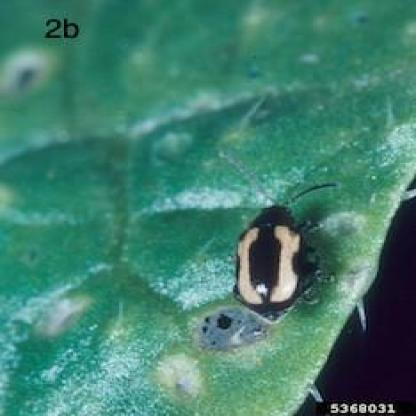beetle: (222, 166, 343, 324)
